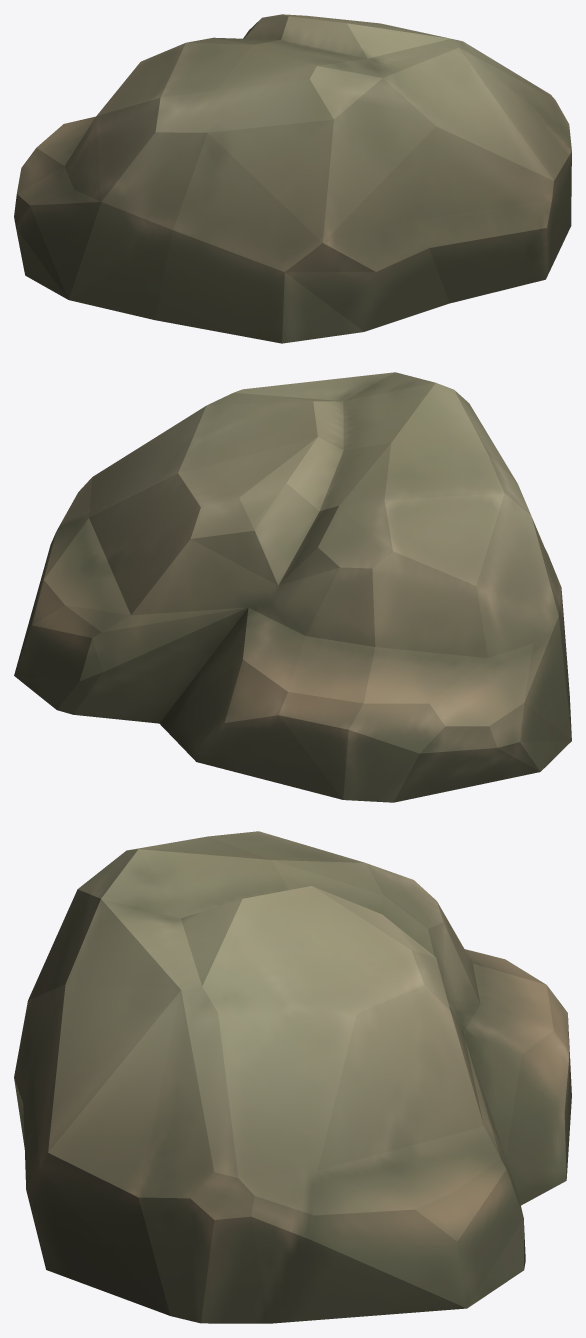
Rendered from CBS_nat_Rock_B.FBX.
The picture shows the model from 3 angles, top to bottom: view 1: azimuth 30°, elevation 25°; view 2: azimuth 150°, elevation 25°; view 3: azimuth 270°, elevation 25°; orthographic projection. The views are drawn at different scales.
Visible parts, largest first — view 1: CBS_nat_Rock_B; view 2: CBS_nat_Rock_B; view 3: CBS_nat_Rock_B.
Part boxes in pixels (x1,y1,x2,y2): CBS_nat_Rock_B: (14,14,571,343); CBS_nat_Rock_B: (14,372,571,802); CBS_nat_Rock_B: (14,831,571,1323).
Size of the model in its own units: 115 by 53.56 by 90.23.
